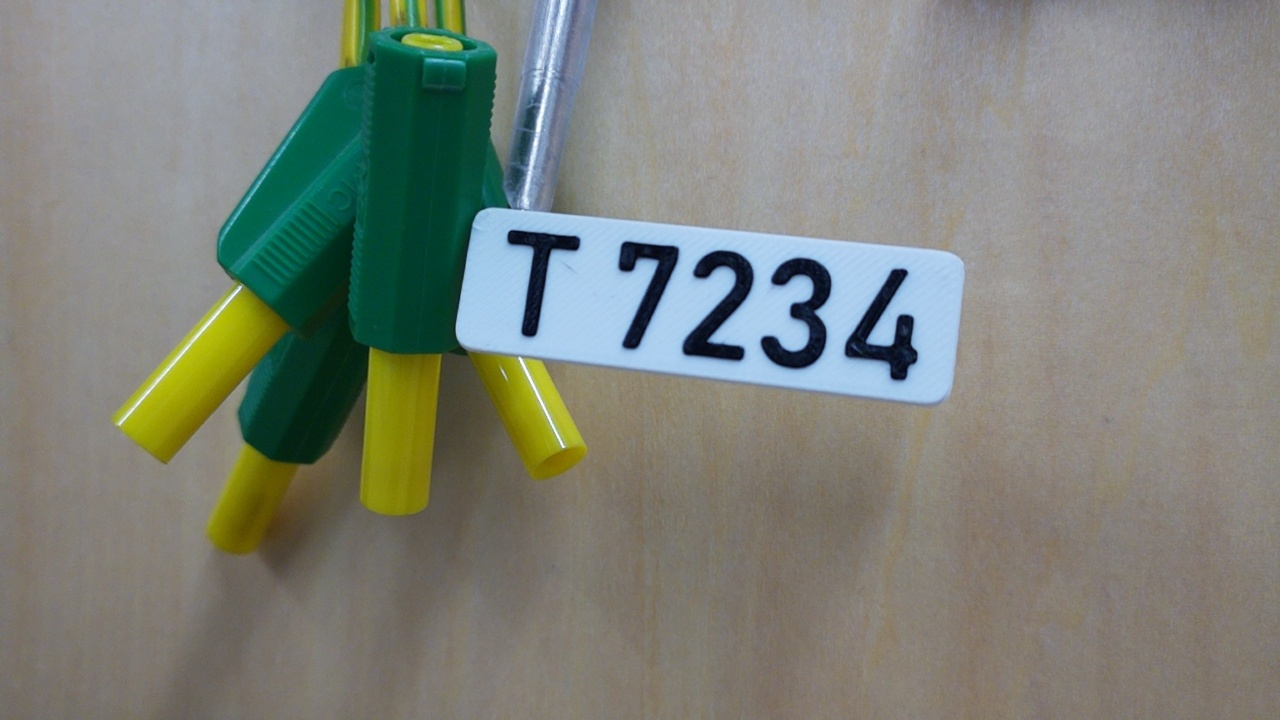license_plate: (450, 203, 969, 410)
